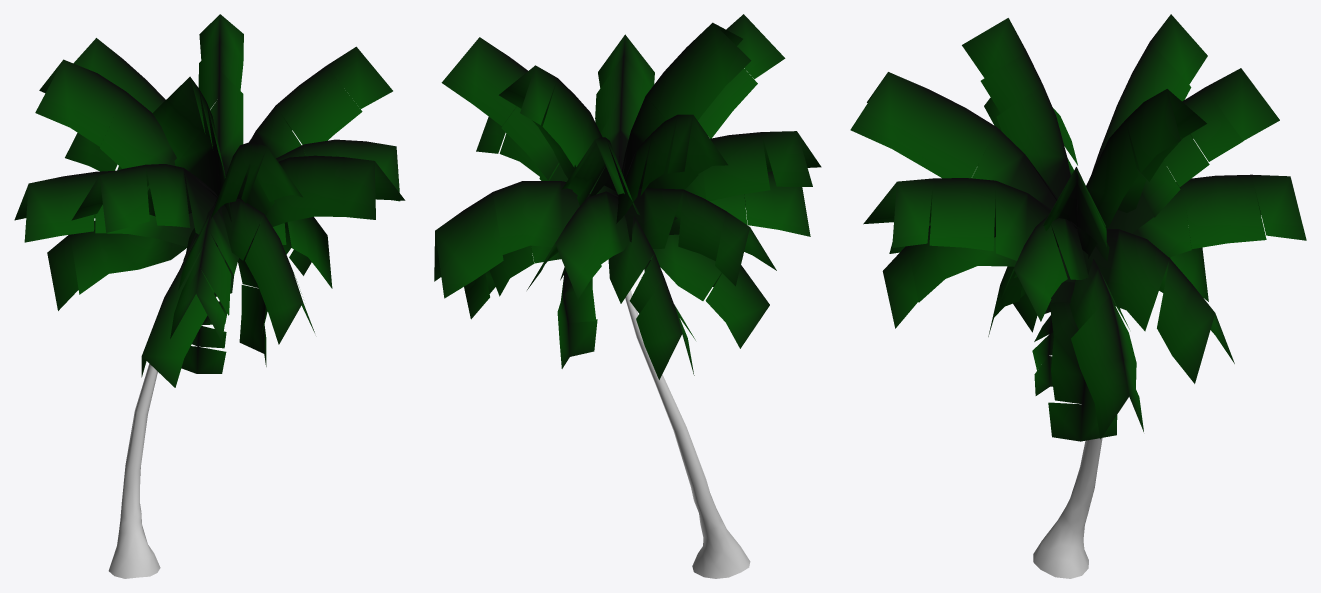
The model's file is CoconutPalmTree01_afsTREE_xlprl10_xef99_xmm_xlod01.fbx.
3 renders of one model, left to right at view 1: azimuth 30°, elevation 25°; view 2: azimuth 150°, elevation 25°; view 3: azimuth 270°, elevation 25°, orthographic. The views are drawn at different scales.
Visible parts, largest first — view 1: branch_xw08_xt08_xlp05_xp02, branch_xw09_xt05_xlp05_xp07, branch_xw08_xt08_xlp05_xp09, branch_xw08_xt09_xlp06_xp06, branch_xw06_xt04_xlp03, branch_xw08_xt08_xlp06_xp10, branch_xw05_xt06_xlp04_xp04, branch_xw10_xt10_xlp08, branch_xw09_xt09_xlp05_xp07, branch_xw06_xt05_xlp04, trunk_xw08_xt00_xlp00, branch_xw05_xt06_xlp06_xp04 (+7 smaller); view 2: branch_xw07_xt06_xlp06_xp10, branch_xw08_xt08_xlp06_xp10, branch_xw09_xt09_xlp05_xp07, branch_xw08_xt08_xlp05_xp09, branch_xw09_xt05_xlp05_xp07, branch_xw06_xt04_xlp03, branch_xw08_xt08_xlp05_xp02, branch_xw10_xt10_xlp08, trunk_xw08_xt00_xlp00, branch_xw05_xt06_xlp06_xp04, branch_xw06_xt07_xlp04, branch_xw08_xt09_xlp06_xp06 (+6 smaller); view 3: branch_xw07_xt06_xlp04_xp05, branch_xw08_xt09_xlp06_xp06, branch_xw06_xt07_xlp04, branch_xw07_xt06_xlp06_xp10, branch_xw09_xt09_xlp05_xp07, branch_xw08_xt08_xlp05_xp10.001, branch_xw10_xt10_xlp08, branch_xw07_xt06_xlp03_xp09, branch_xw05_xt07_xlp03_xp03, branch_xw08_xt08_xlp05_xp02, branch_xw05_xt06_xlp04_xp04, branch_xw08_xt08_xlp05 (+6 smaller).
Boxes of the visible parts, x1=… form: branch_xw08_xt08_xlp05_xp02: x1=35, y1=59, x2=176, y2=189; branch_xw09_xt05_xlp05_xp07: x1=249, y1=46, x2=392, y2=248; branch_xw08_xt08_xlp05_xp09: x1=71, y1=164, x2=217, y2=242; branch_xw08_xt09_xlp06_xp06: x1=215, y1=155, x2=405, y2=246; branch_xw06_xt04_xlp03: x1=47, y1=221, x2=186, y2=310; branch_xw08_xt08_xlp06_xp10: x1=14, y1=170, x2=194, y2=246; branch_xw05_xt06_xlp04_xp04: x1=221, y1=199, x2=314, y2=344; branch_xw10_xt10_xlp08: x1=198, y1=14, x2=243, y2=176; branch_xw09_xt09_xlp05_xp07: x1=152, y1=76, x2=231, y2=221; branch_xw06_xt05_xlp04: x1=170, y1=198, x2=238, y2=341; trunk_xw08_xt00_xlp00: x1=108, y1=364, x2=160, y2=578; branch_xw05_xt06_xlp06_xp04: x1=141, y1=233, x2=225, y2=387; branch_xw07_xt06_xlp06_xp10: x1=434, y1=181, x2=590, y2=298; branch_xw08_xt08_xlp06_xp10: x1=624, y1=188, x2=776, y2=286; branch_xw09_xt09_xlp05_xp07: x1=621, y1=22, x2=751, y2=178; branch_xw08_xt08_xlp05_xp09: x1=618, y1=131, x2=821, y2=220; branch_xw09_xt05_xlp05_xp07: x1=441, y1=37, x2=568, y2=181; branch_xw06_xt04_xlp03: x1=608, y1=216, x2=695, y2=379; branch_xw08_xt08_xlp05_xp02: x1=616, y1=114, x2=727, y2=223; branch_xw10_xt10_xlp08: x1=499, y1=65, x2=617, y2=195; trunk_xw08_xt00_xlp00: x1=625, y1=289, x2=750, y2=578; branch_xw05_xt06_xlp06_xp04: x1=653, y1=234, x2=769, y2=348; branch_xw06_xt07_xlp04: x1=527, y1=191, x2=629, y2=299; branch_xw08_xt09_xlp06_xp06: x1=595, y1=34, x2=654, y2=170; branch_xw07_xt06_xlp04_xp05: x1=850, y1=72, x2=1057, y2=209; branch_xw08_xt09_xlp06_xp06: x1=863, y1=178, x2=1074, y2=282; branch_xw06_xt07_xlp04: x1=1132, y1=174, x2=1306, y2=257; branch_xw07_xt06_xlp06_xp10: x1=1082, y1=228, x2=1234, y2=383; branch_xw09_xt09_xlp05_xp07: x1=962, y1=18, x2=1070, y2=198; branch_xw08_xt08_xlp05_xp10.001: x1=1108, y1=68, x2=1279, y2=233; branch_xw10_xt10_xlp08: x1=1077, y1=89, x2=1206, y2=258; branch_xw07_xt06_xlp03_xp09: x1=1069, y1=259, x2=1143, y2=439; branch_xw05_xt07_xlp03_xp03: x1=1048, y1=229, x2=1117, y2=441; branch_xw08_xt08_xlp05_xp02: x1=1091, y1=14, x2=1207, y2=173; branch_xw05_xt06_xlp04_xp04: x1=882, y1=225, x2=1016, y2=328; branch_xw08_xt08_xlp05: x1=995, y1=215, x2=1088, y2=321.
Size of what is drawn, in the model's own units: 10.81 by 11.44 by 15.65.
